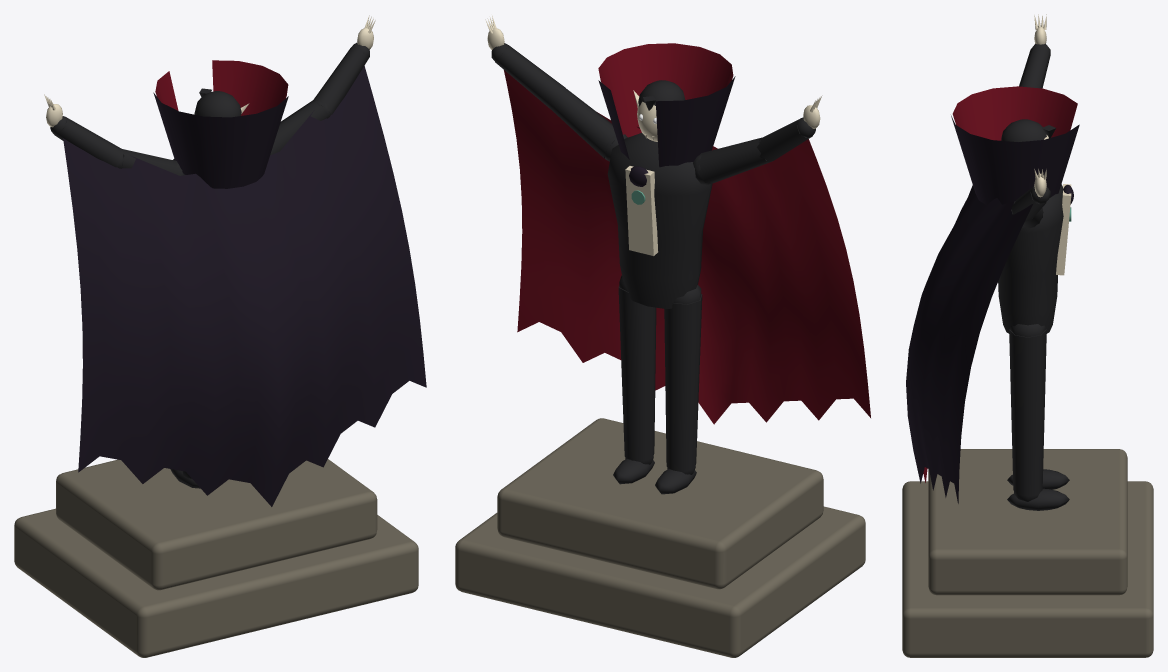
File: VAMPIRE.glb
3 renders of one model, left to right at view 1: azimuth 30°, elevation 25°; view 2: azimuth 150°, elevation 25°; view 3: azimuth 270°, elevation 25°, orthographic. The views are drawn at different scales.
Visible parts, largest first — view 1: fabric_3, stone_0, tread_1, velvet_5, bone_2; view 2: velvet_5, stone_0, tread_1, fabric_3, bone_2; view 3: stone_0, fabric_3, tread_1, velvet_5, bone_2.
Part boxes in pixels (x1,y1,x2,y2): fabric_3: [63, 66, 426, 506]; stone_0: [14, 459, 418, 657]; tread_1: [50, 42, 369, 488]; velvet_5: [155, 60, 288, 115]; bone_2: [44, 15, 375, 127]; velvet_5: [504, 43, 870, 424]; stone_0: [455, 418, 865, 657]; tread_1: [491, 43, 815, 494]; fabric_3: [598, 76, 735, 186]; bone_2: [485, 15, 822, 255]; stone_0: [902, 449, 1153, 657]; fabric_3: [906, 115, 1079, 503]; tread_1: [998, 43, 1069, 510]; velvet_5: [923, 86, 1077, 482]; bone_2: [1034, 14, 1071, 275].
Bounding box in the file's own units: 1.86 × 2.65 × 1.2.
